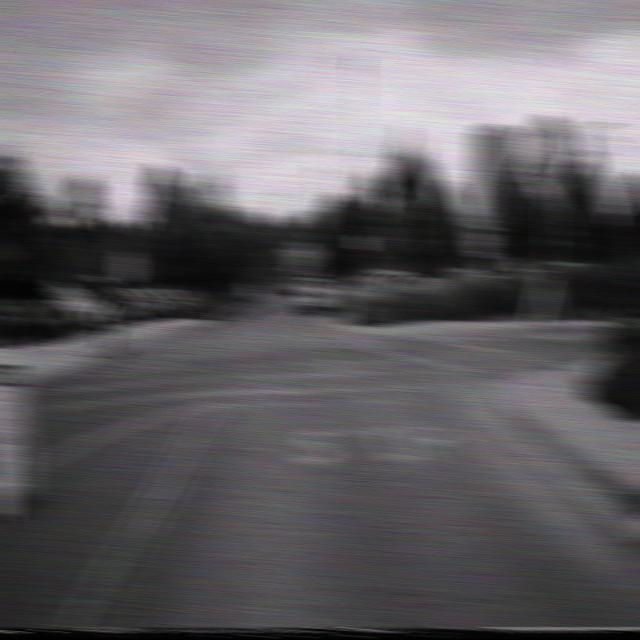stop: (525, 110, 576, 189)
